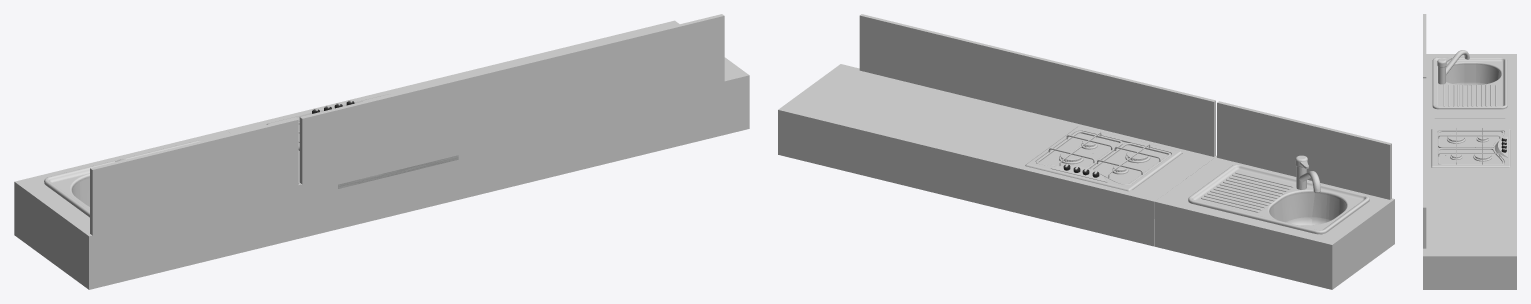
Rendered from cuisine4.FBX.
The picture shows the model from 3 angles, left to right: view 1: azimuth 30°, elevation 25°; view 2: azimuth 150°, elevation 25°; view 3: azimuth 270°, elevation 25°; orthographic projection. The views are drawn at different scales.
Parts seen in each view (by area): view 1: _DGeom_433, _DGeom_432, _DGeom_50, _DGeom_426, _DGeom_282, _DGeom_37, _DGeom_26; view 2: _DGeom_432, _DGeom_433, _DGeom_50, _DGeom_426, _DGeom_282, _DGeom_6, _DGeom_300, _DGeom_301, _DGeom_298; view 3: _DGeom_432, _DGeom_282, _DGeom_6, _DGeom_50, _DGeom_433, _DGeom_300, _DGeom_298, _DGeom_426, _DGeom_301, _DGeom_320, _DGeom_115, _DGeom_251 (+1 smaller).
Boxes of the visible parts, x1,y1,x2,y2 form: _DGeom_433: [299, 14, 724, 186]; _DGeom_432: [226, 20, 749, 238]; _DGeom_50: [14, 130, 300, 289]; _DGeom_426: [90, 118, 298, 237]; _DGeom_282: [44, 140, 203, 217]; _DGeom_37: [338, 155, 458, 188]; _DGeom_26: [106, 208, 227, 242]; _DGeom_432: [778, 64, 1216, 246]; _DGeom_433: [859, 14, 1215, 156]; _DGeom_50: [1155, 156, 1394, 289]; _DGeom_426: [1217, 101, 1391, 199]; _DGeom_282: [1188, 164, 1369, 234]; _DGeom_6: [1025, 126, 1181, 191]; _DGeom_300: [1295, 155, 1320, 192]; _DGeom_301: [1036, 131, 1122, 168]; _DGeom_298: [1090, 143, 1171, 184]; _DGeom_432: [1423, 119, 1516, 289]; _DGeom_282: [1432, 57, 1507, 109]; _DGeom_6: [1431, 129, 1510, 167]; _DGeom_50: [1426, 54, 1516, 118]; _DGeom_433: [1423, 78, 1426, 248]; _DGeom_300: [1437, 50, 1469, 84]; _DGeom_298: [1438, 130, 1504, 147]; _DGeom_426: [1423, 14, 1426, 78]; _DGeom_301: [1438, 148, 1504, 164]; _DGeom_320: [1495, 137, 1507, 157]; _DGeom_115: [1438, 135, 1500, 138]; _DGeom_251: [1447, 133, 1464, 140].
Size of the model in its own units: 5076 by 875 by 995.
Materials: 2 (2 with a texture image).
